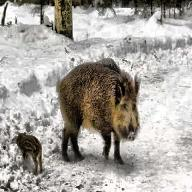boar: (34, 57, 149, 165)
